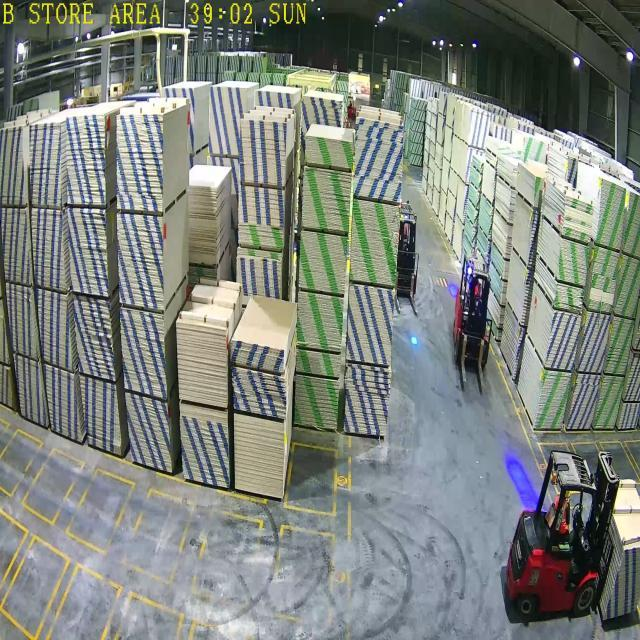material_stack: (233, 412, 285, 497), (350, 200, 400, 286), (354, 118, 404, 203), (346, 284, 395, 366), (344, 364, 392, 436), (303, 166, 352, 233), (297, 231, 348, 295), (232, 367, 286, 419), (298, 291, 344, 351), (295, 375, 339, 429), (534, 370, 572, 428), (545, 311, 582, 370), (588, 246, 620, 313), (596, 179, 626, 250), (578, 311, 611, 372), (567, 374, 601, 429), (230, 340, 284, 374), (604, 316, 635, 375), (594, 376, 625, 429), (305, 135, 353, 169), (557, 239, 590, 286), (562, 195, 594, 241), (296, 350, 340, 378), (554, 283, 585, 314)
